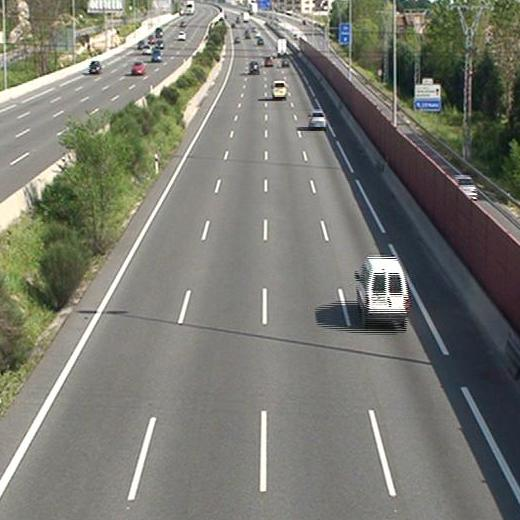car: (309, 111, 326, 128), (249, 61, 259, 74), (263, 56, 274, 66), (281, 57, 289, 67)
small-truck: (276, 37, 286, 56)
van: (356, 257, 408, 325), (272, 81, 286, 100)
